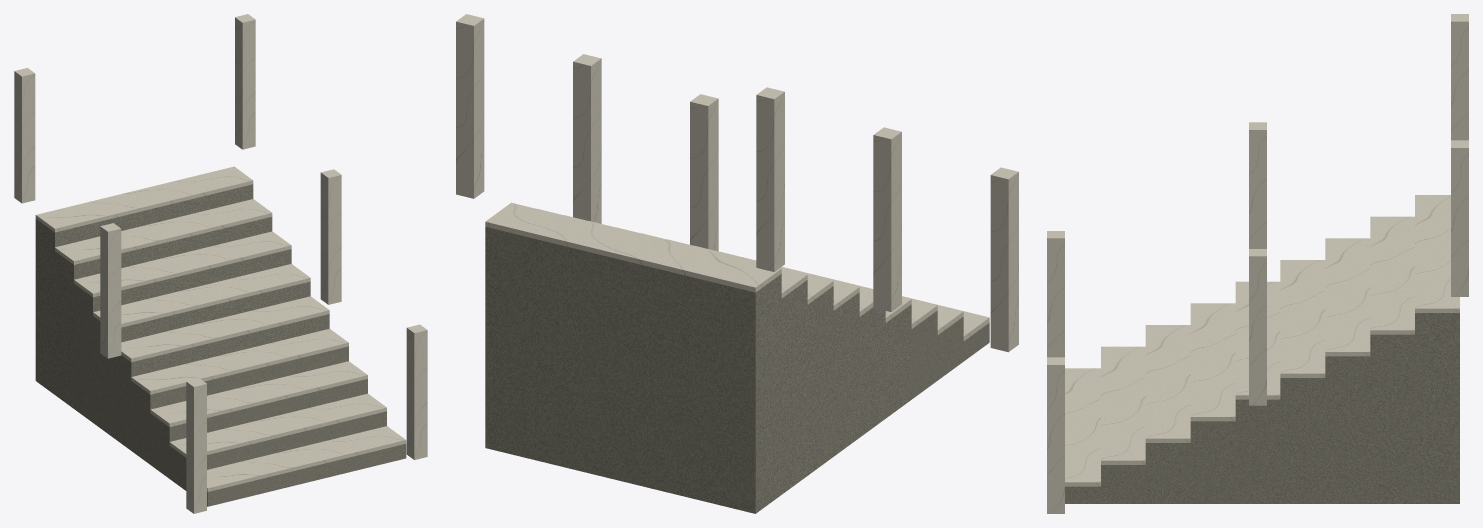
3 views of the same model, side by side, from view 1: azimuth 30°, elevation 25°; view 2: azimuth 150°, elevation 25°; view 3: azimuth 270°, elevation 25° (orthographic). The views are drawn at different scales.
Parts seen in each view (by area): view 1: Stone stair tread and riser.008, Stone stair tread and riser.007, Stone stair tread and riser.006, Stone stair tread and riser.004, Stone stair tread and riser.005, Replaceable marble tread.008, Replaceable marble tread.003, Replaceable marble tread.004, Replaceable marble tread, Replaceable marble tread.005, Replaceable marble tread.006, Replaceable marble tread.007 (+12 smaller); view 2: Stone stair tread and riser.008, Replaceable marble tread.008, Stone stair tread and riser.007, Outside-route guard post.005, Outside-route guard post, Outside-route guard post.001, Outside-route guard post.002, Outside-route guard post.004, Stone stair tread and riser.006, Outside-route guard post.003, Stone stair tread and riser.005, Stone stair tread and riser.004 (+9 smaller); view 3: Stone stair tread and riser.008, Stone stair tread and riser.007, Stone stair tread and riser.006, Stone stair tread and riser.005, Replaceable marble tread.003, Replaceable marble tread.006, Replaceable marble tread.002, Replaceable marble tread.005, Replaceable marble tread.001, Replaceable marble tread.007, Stone stair tread and riser.004, Replaceable marble tread.008 (+12 smaller).
Part boxes in pixels (x1,y1,x2,y2): Stone stair tread and riser.008: (35, 184, 253, 394); Stone stair tread and riser.007: (55, 217, 272, 408); Stone stair tread and riser.006: (74, 249, 291, 422); Stone stair tread and riser.004: (112, 314, 329, 450); Stone stair tread and riser.005: (93, 281, 310, 436); Replaceable marble tread.008: (35, 166, 253, 232); Replaceable marble tread.003: (131, 328, 348, 394); Replaceable marble tread.004: (121, 296, 329, 362); Replaceable marble tread: (207, 426, 406, 491); Replaceable marble tread.005: (93, 264, 310, 327); Replaceable marble tread.006: (74, 231, 291, 297); Replaceable marble tread.007: (55, 199, 272, 264); Stone stair tread and riser.008: (485, 227, 781, 513); Replaceable marble tread.008: (485, 202, 781, 292); Stone stair tread and riser.007: (781, 280, 807, 494); Outside-route guard post.005: (456, 14, 484, 198); Outside-route guard post: (990, 167, 1018, 352); Outside-route guard post.001: (873, 127, 901, 311); Outside-route guard post.002: (756, 87, 784, 271); Outside-route guard post.004: (573, 54, 601, 223); Stone stair tread and riser.006: (807, 286, 833, 475); Outside-route guard post.003: (690, 94, 718, 251); Stone stair tread and riser.005: (833, 292, 859, 456); Stone stair tread and riser.004: (859, 307, 885, 437); Stone stair tread and riser.008: (1415, 313, 1459, 503); Stone stair tread and riser.007: (1370, 334, 1414, 503); Stone stair tread and riser.006: (1325, 356, 1370, 503); Stone stair tread and riser.005: (1280, 378, 1325, 503); Replaceable marble tread.003: (1190, 303, 1235, 421); Replaceable marble tread.006: (1325, 238, 1370, 356); Replaceable marble tread.002: (1145, 325, 1190, 442); Replaceable marble tread.005: (1280, 260, 1325, 377); Replaceable marble tread.001: (1101, 346, 1145, 464); Replaceable marble tread.007: (1370, 216, 1414, 334); Stone stair tread and riser.004: (1235, 399, 1280, 503); Replaceable marble tread.008: (1415, 195, 1459, 312).
Size of the model in its own units: 2.12 by 2.7 by 2.82.
Materials: 2 (2 with a texture image).
